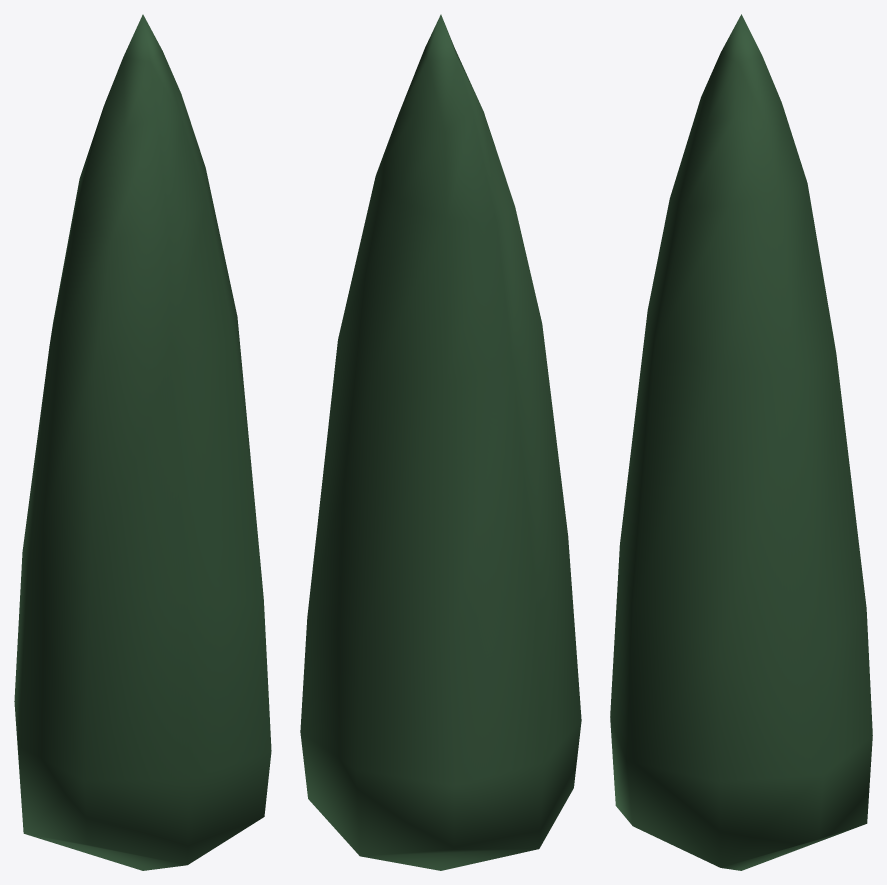
3 renders of one model, left to right at view 1: azimuth 30°, elevation 25°; view 2: azimuth 150°, elevation 25°; view 3: azimuth 270°, elevation 25°, orthographic.
Visible parts, largest first — view 1: treeEvergrn.041; view 2: treeEvergrn.041; view 3: treeEvergrn.041.
Part boxes in pixels (x1=…): treeEvergrn.041: x1=14, y1=14, x2=271, y2=870; treeEvergrn.041: x1=300, y1=14, x2=581, y2=870; treeEvergrn.041: x1=610, y1=14, x2=872, y2=870.
Size of the model in its own units: 0.1389 by 0.5 by 0.1389.
